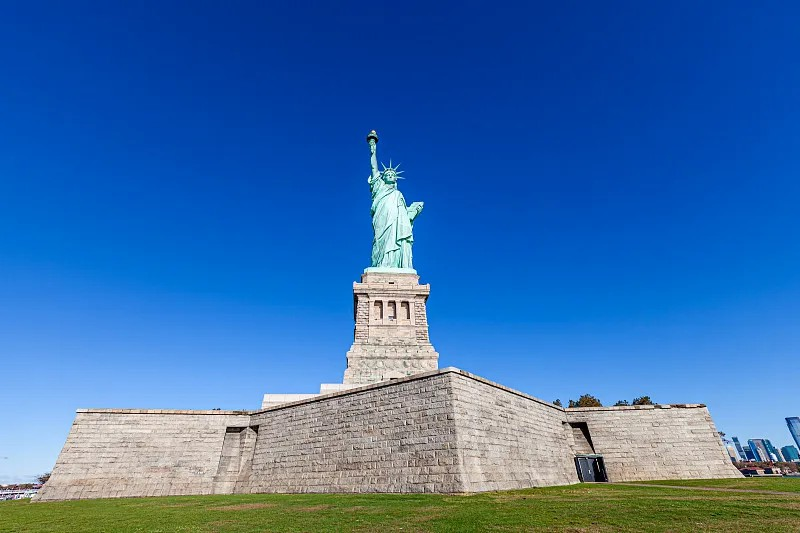SL: (342, 129, 438, 384)
